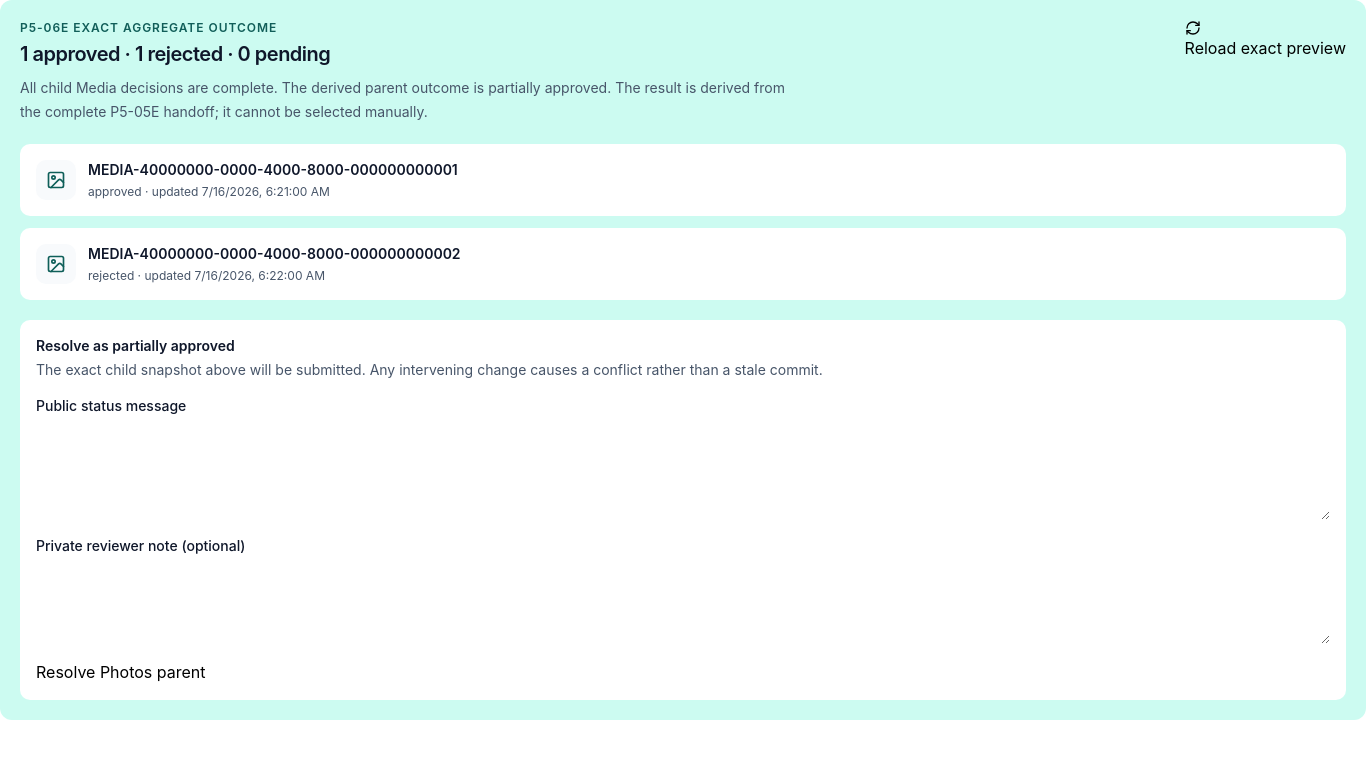
P5-06E2 Photos parent resolution reviewer controls › submits only the exact server-projected child snapshot
expect the text "derived parent outcome is partially approved" is shown: met, box top-left (20, 79), bottom-right (611, 96)
expect the heading "1 approved · 1 rejected · 0 pending" is shown: met, box top-left (20, 42), bottom-right (330, 66)
Type "One submitted photo was approved and one was not approved." into the text box labelled "Public status message". click: (683, 472)
box: top-left (36, 424), bottom-right (1330, 520)
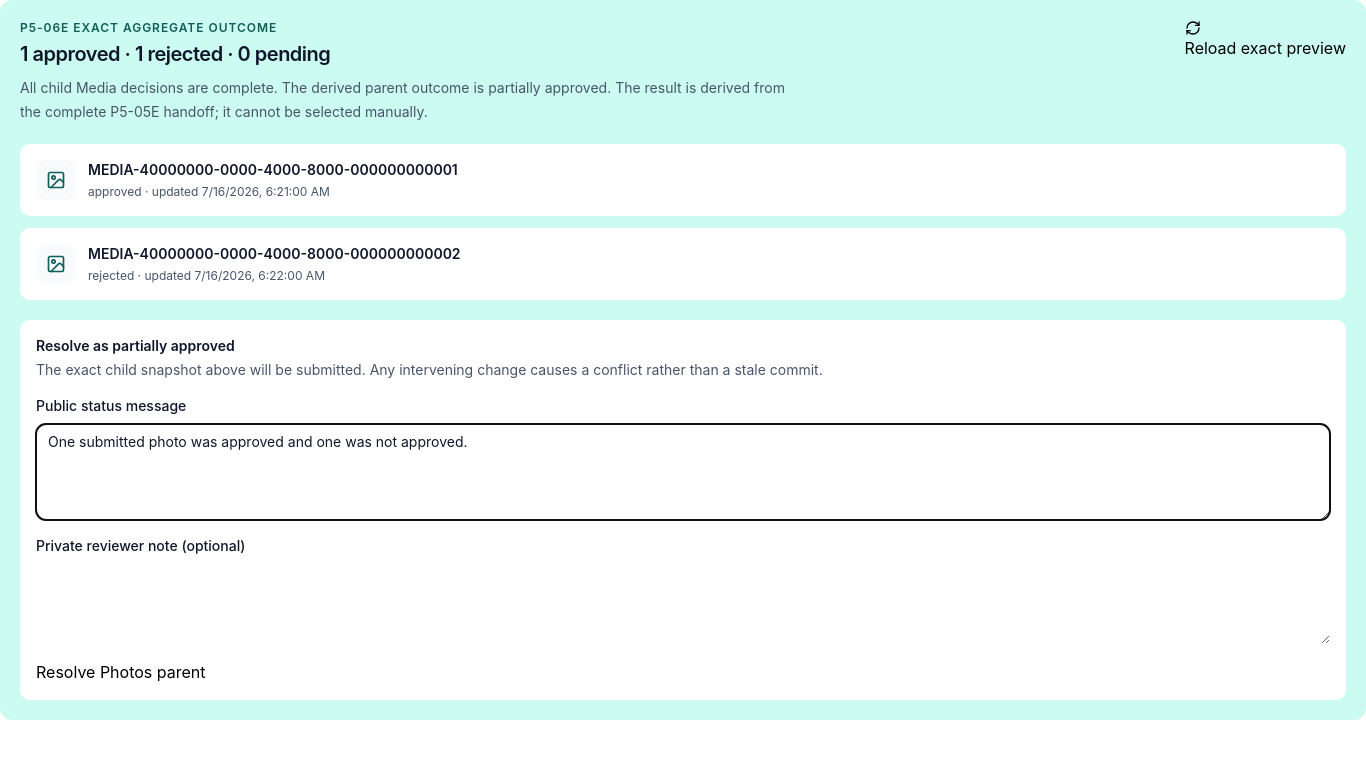
Click the button "Resolve Photos parent". click: (121, 672)
box: top-left (36, 660), bottom-right (206, 684)
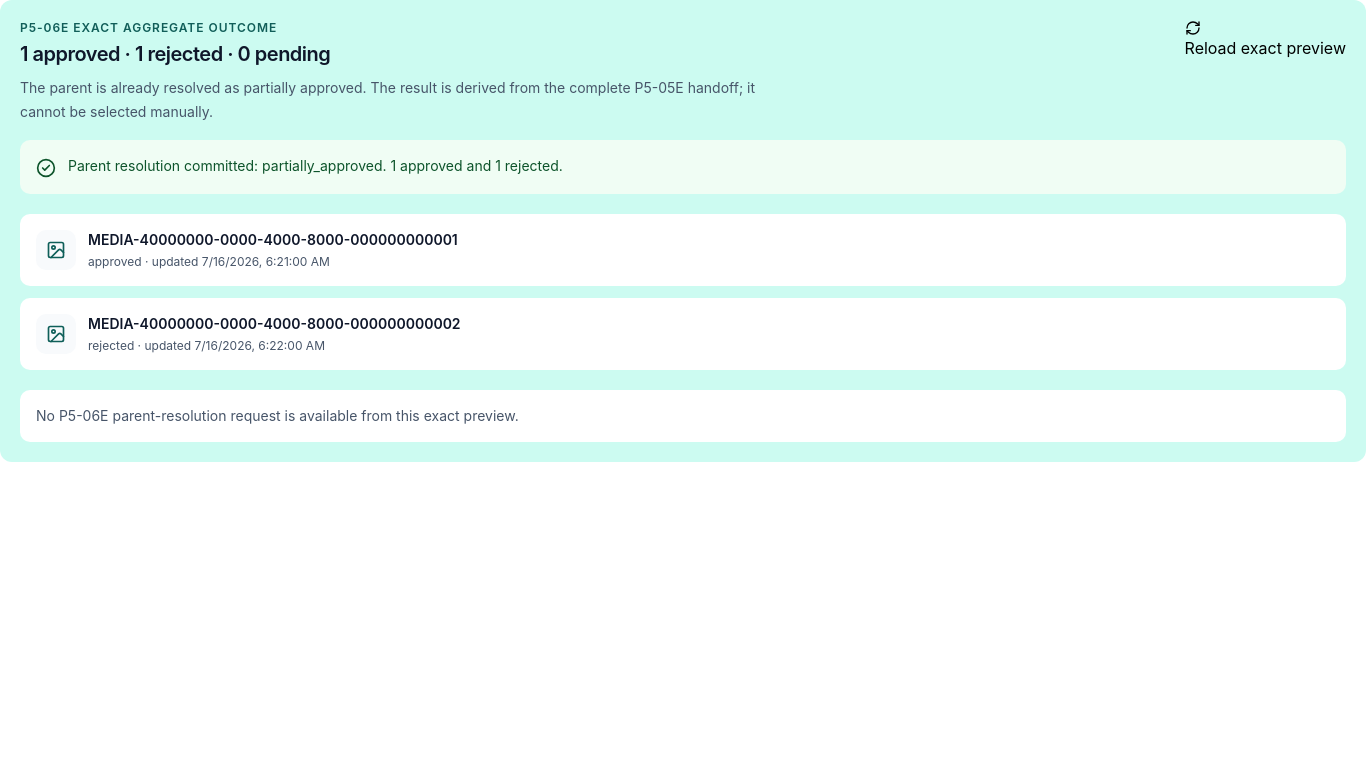
expect the text "Parent resolution committed: partially_approved" is shown: met, box top-left (68, 156), bottom-right (563, 176)
